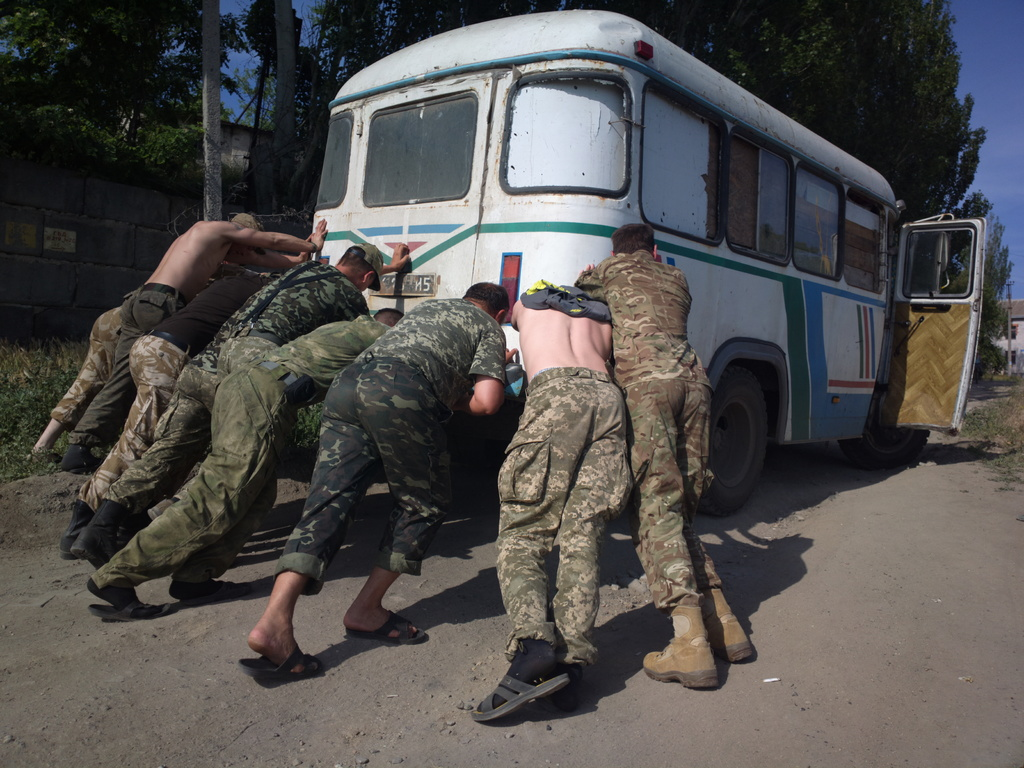Bus: (307, 7, 990, 510)
